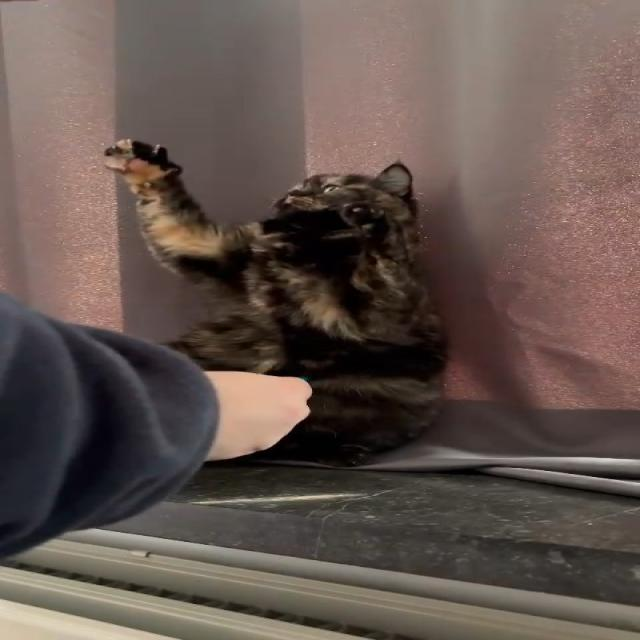authorized: (101, 138, 451, 468)
